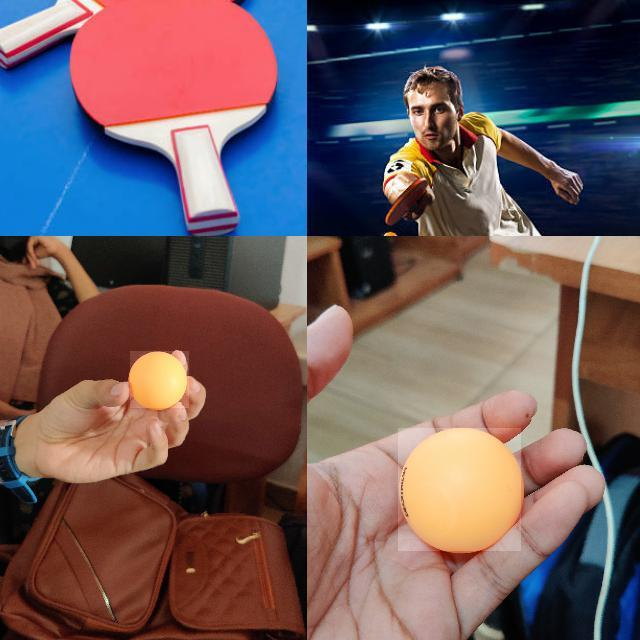ping-pong-ball: (398, 428, 522, 552), (130, 351, 190, 409)
